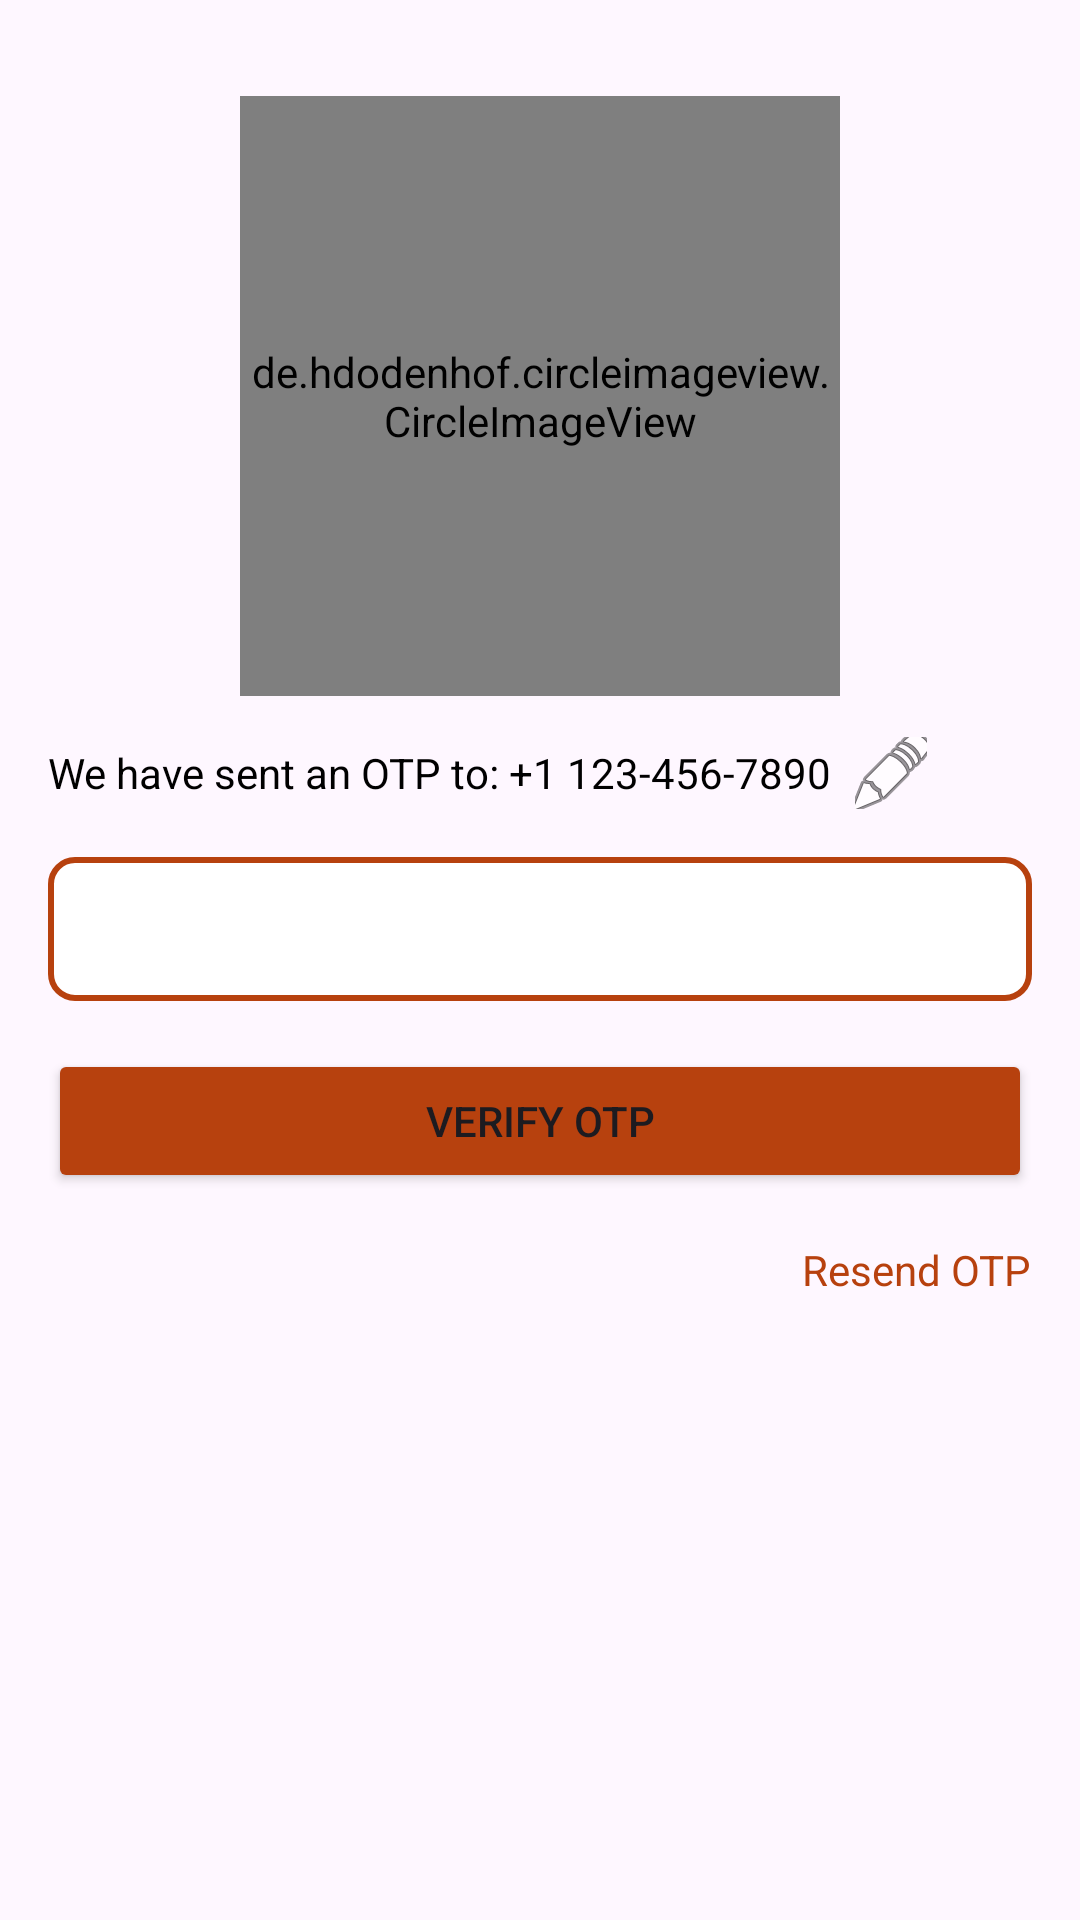

Icons on this 1080w x 1920h Android screen, each with the point to tap as (x=x, y=y):
edit: (x=891, y=773)
